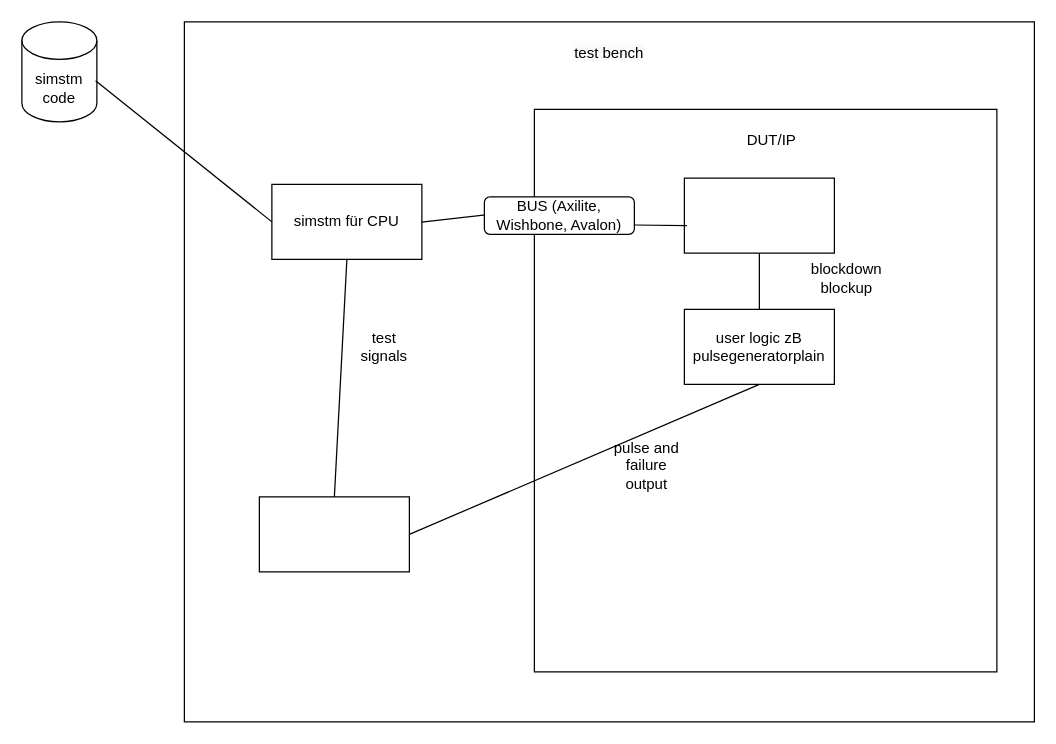
Some shapes in this 1056 by 744 pixel diagram are drawn without their labels. Here are the shapes that lost their labels. From the top down, the box of each, then its label:
(683, 177, 834, 253): HxS interface
(258, 496, 409, 572): puls and failure check unit
